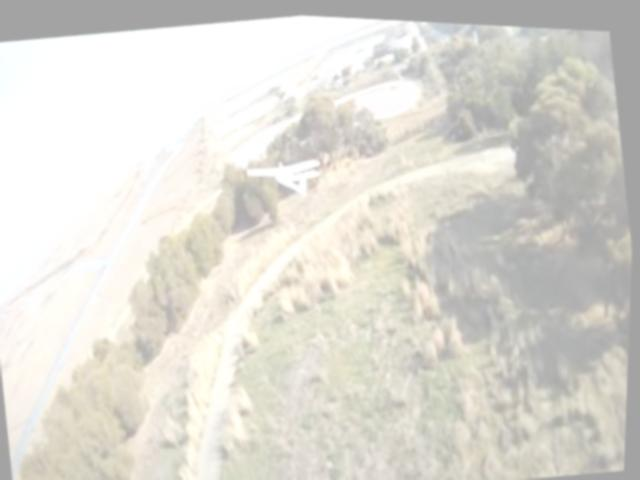uav: (241, 139, 331, 207)
